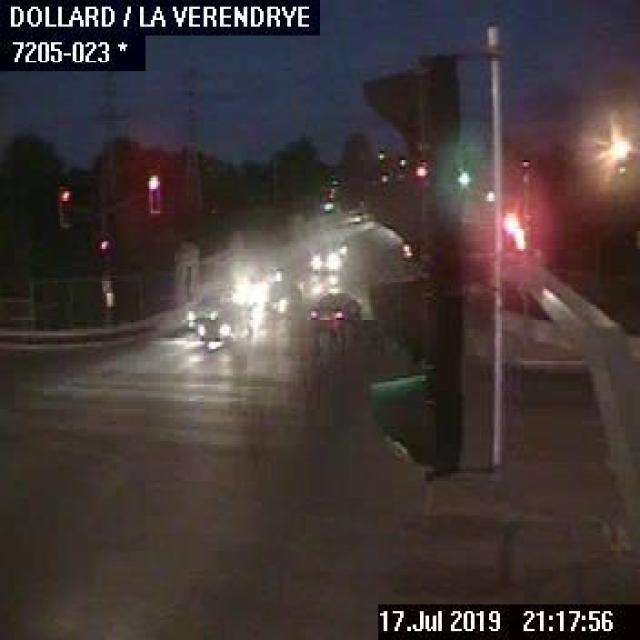vehicle: (307, 289, 358, 327), (197, 308, 242, 340), (262, 282, 299, 314), (184, 302, 216, 332), (307, 242, 335, 269)
